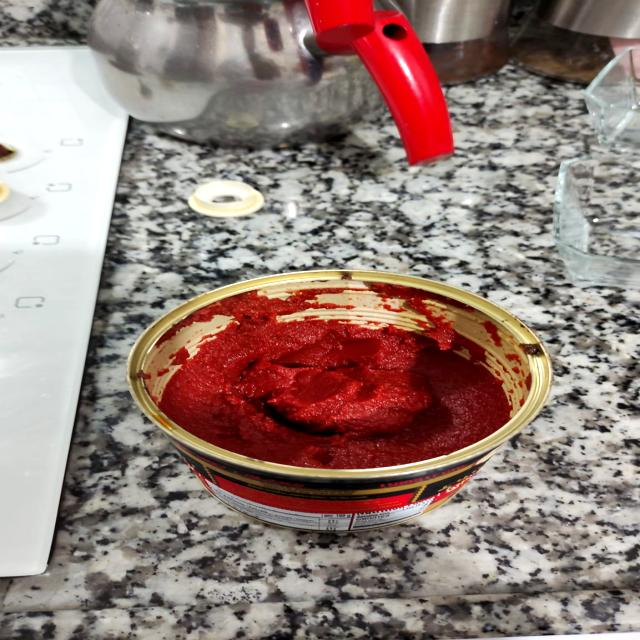tomato paste: (113, 260, 568, 545)
